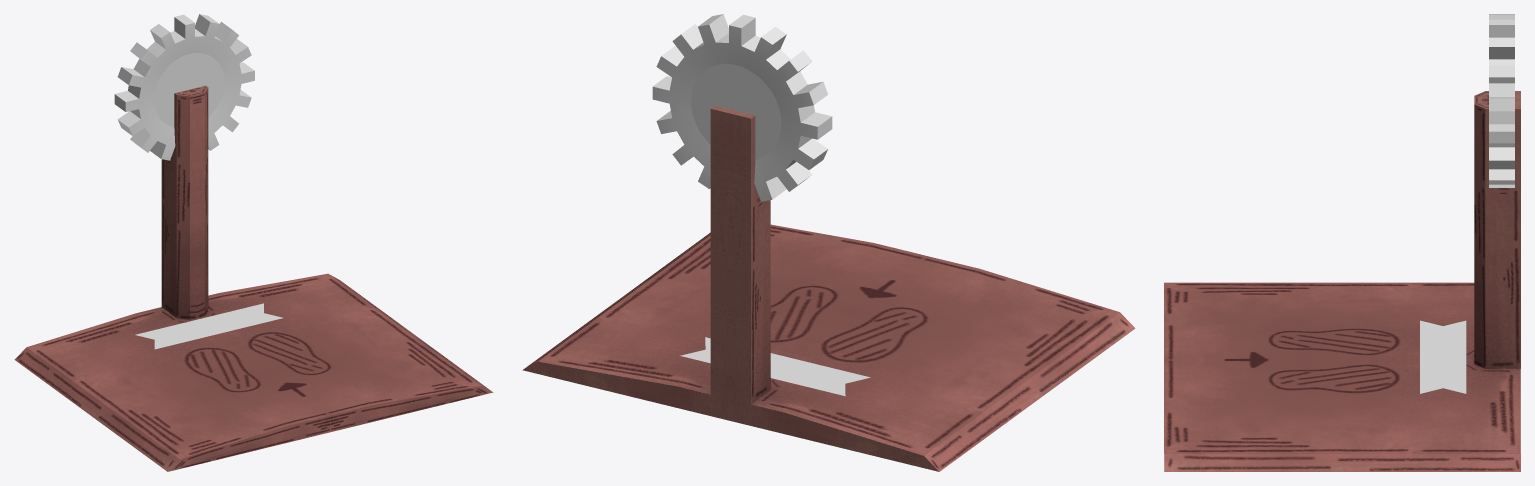
The model's file is MSH_CheckPoint.fbx.
3 renders of one model, left to right at view 1: azimuth 30°, elevation 25°; view 2: azimuth 150°, elevation 25°; view 3: azimuth 270°, elevation 25°, orthographic. The views are drawn at different scales.
Visible parts, largest first — view 1: Checkpoint, Gear, Note; view 2: Checkpoint, Gear, Note; view 3: Checkpoint, Gear, Note.
Boxes of the visible parts, x1,y1,x2,y2 form: Checkpoint: [14, 85, 493, 471]; Gear: [114, 14, 254, 160]; Note: [135, 303, 283, 349]; Checkpoint: [522, 105, 1135, 471]; Gear: [652, 14, 832, 201]; Note: [680, 337, 870, 396]; Checkpoint: [1164, 91, 1520, 471]; Gear: [1489, 14, 1514, 187]; Note: [1420, 320, 1466, 393].
Size of the model in its own units: 916 by 823 by 746.
